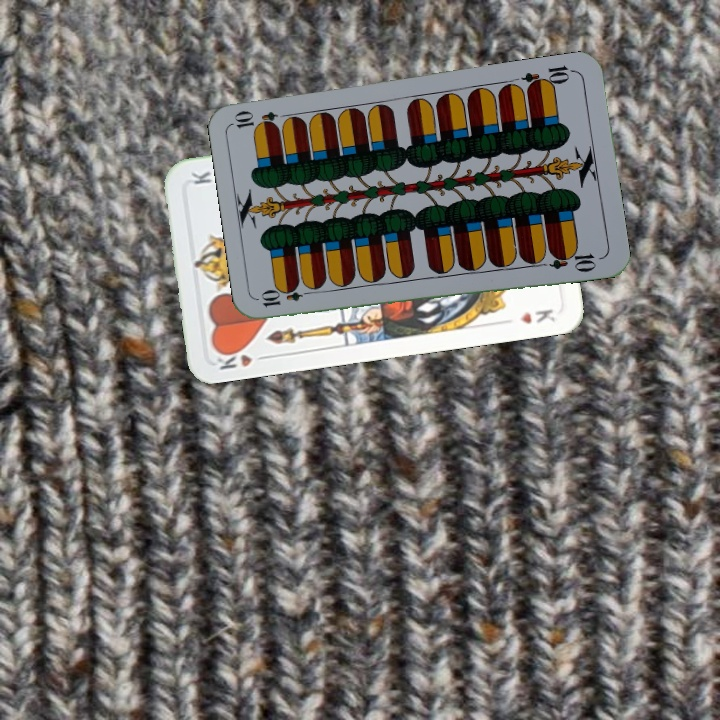E10: (518, 61, 577, 93), (257, 284, 316, 310)
HK: (212, 343, 271, 373)
